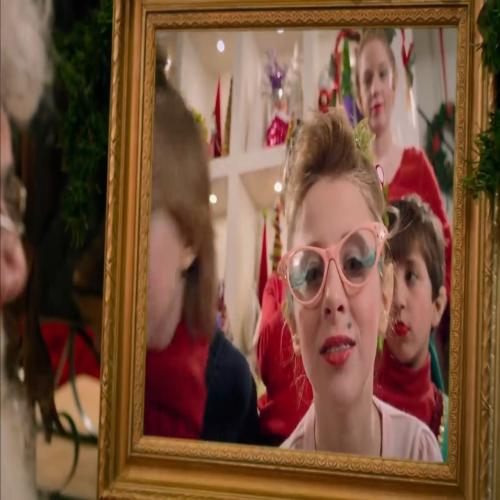Santa: (0, 0, 66, 500)
